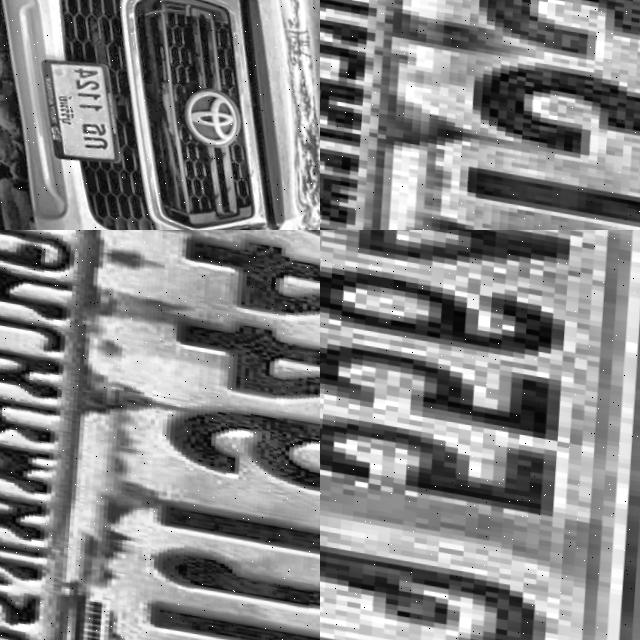license-plate: (0, 230, 320, 640), (320, 230, 640, 640), (320, 0, 640, 230), (32, 43, 132, 164)
